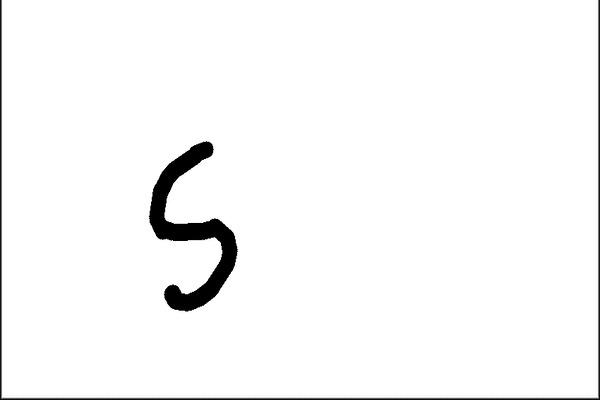S: (141, 136, 241, 313)
